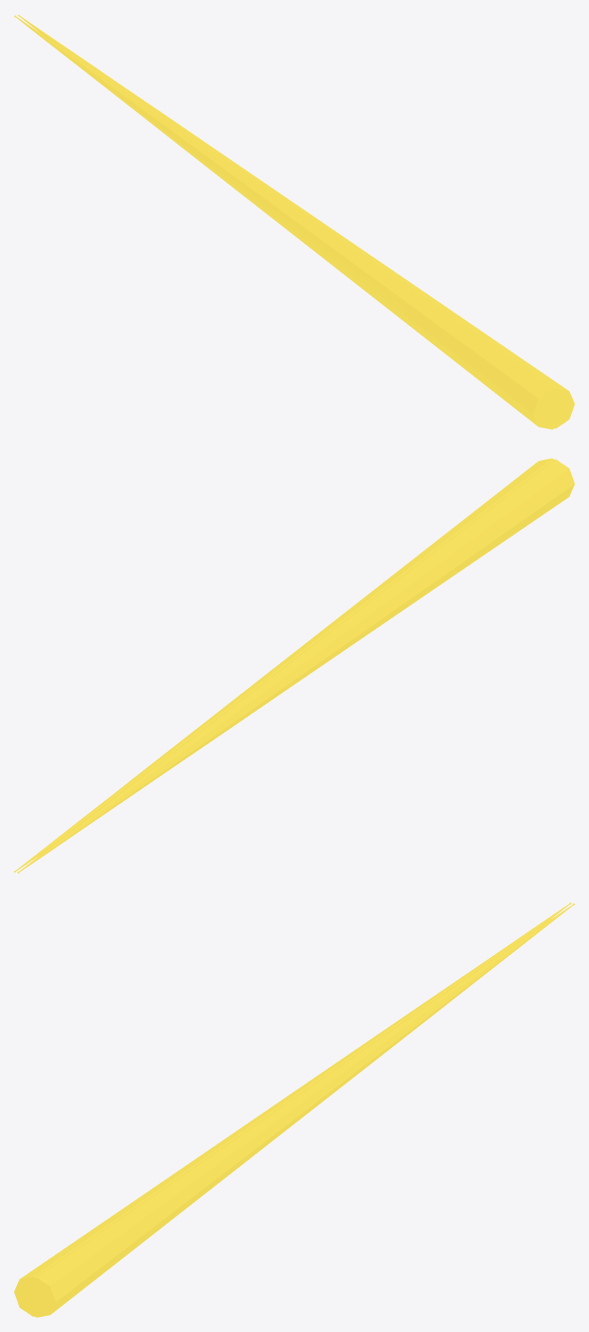
The model's file is spark2.glb.
3 renders of one model, top to bottom at view 1: azimuth 30°, elevation 25°; view 2: azimuth 150°, elevation 25°; view 3: azimuth 330°, elevation 25°, orthographic.
Parts seen in each view (by area): view 1: Cylinder.001, Cylinder; view 2: Cylinder.001, Cylinder; view 3: Cylinder, Cylinder.001.
Boxes of the visible parts, <box> form: Cylinder.001: <box>15,16,568,429</box>; Cylinder: <box>18,15,574,428</box>; Cylinder.001: <box>18,459,574,872</box>; Cylinder: <box>14,458,553,871</box>; Cylinder: <box>20,904,573,1317</box>; Cylinder.001: <box>14,903,570,1316</box>.
Bounding box in the file's own units: 12.15 × 11.14 × 270.
